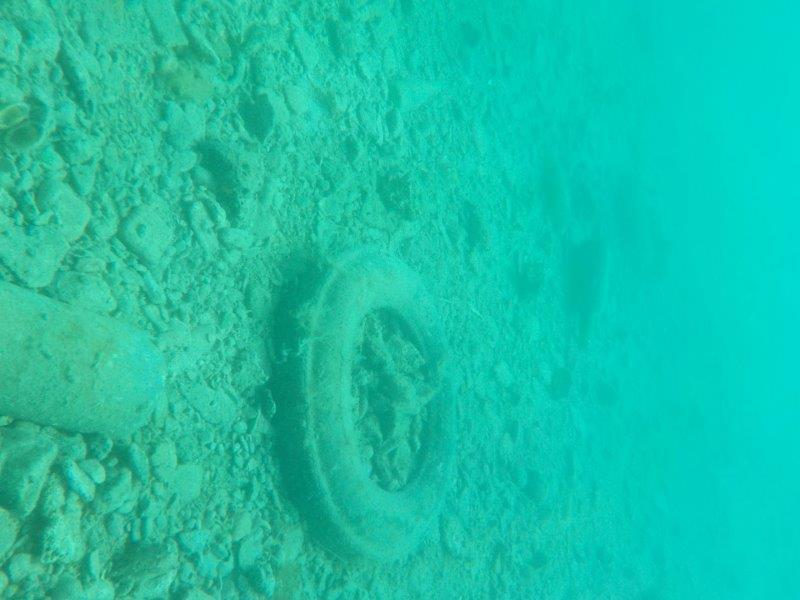bottle: (565, 234, 620, 366), (386, 54, 467, 125)
tire: (266, 226, 470, 577)
